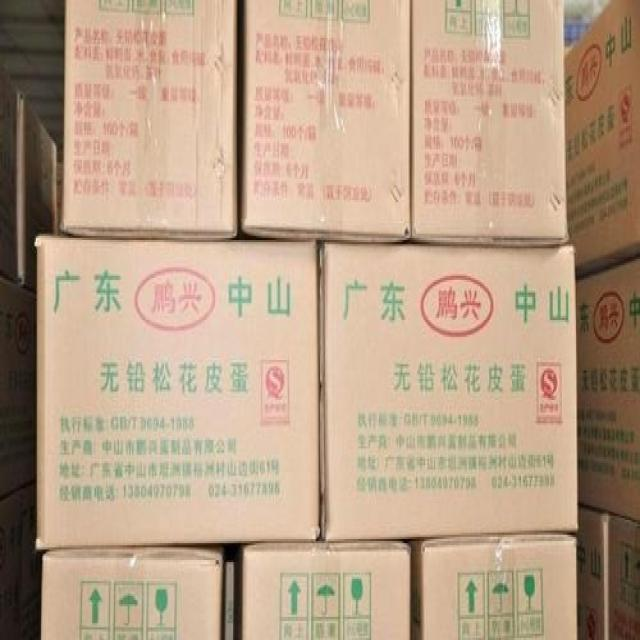box: (35, 236, 319, 552), (317, 240, 577, 541), (59, 0, 238, 240), (241, 0, 411, 240), (412, 0, 568, 242), (566, 0, 640, 280), (411, 533, 579, 640), (234, 541, 413, 640), (41, 547, 225, 640), (579, 257, 640, 522), (579, 505, 608, 640)
